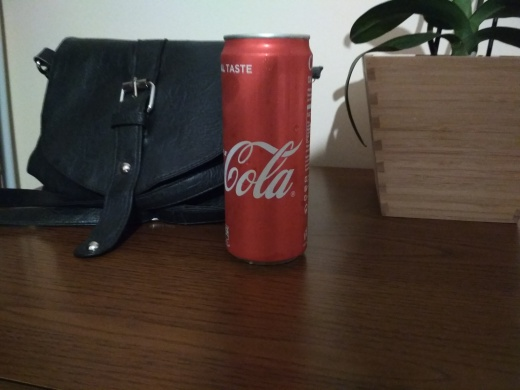cola: (210, 26, 326, 272)
